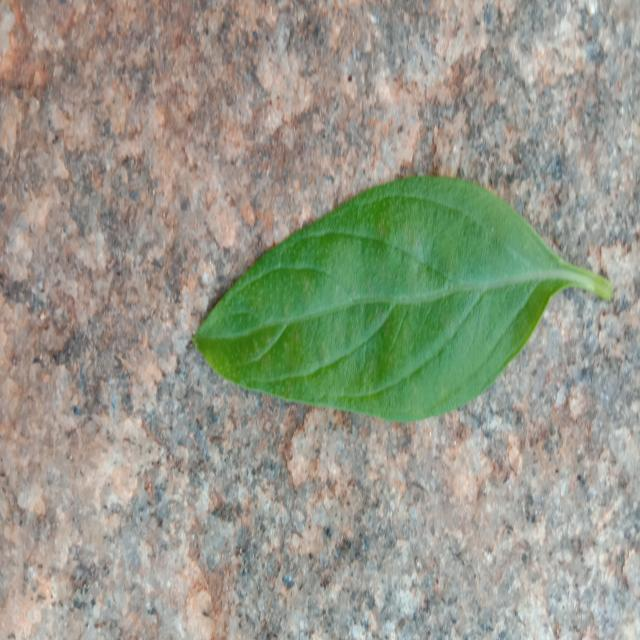kamakasturi: (194, 177, 612, 422)
